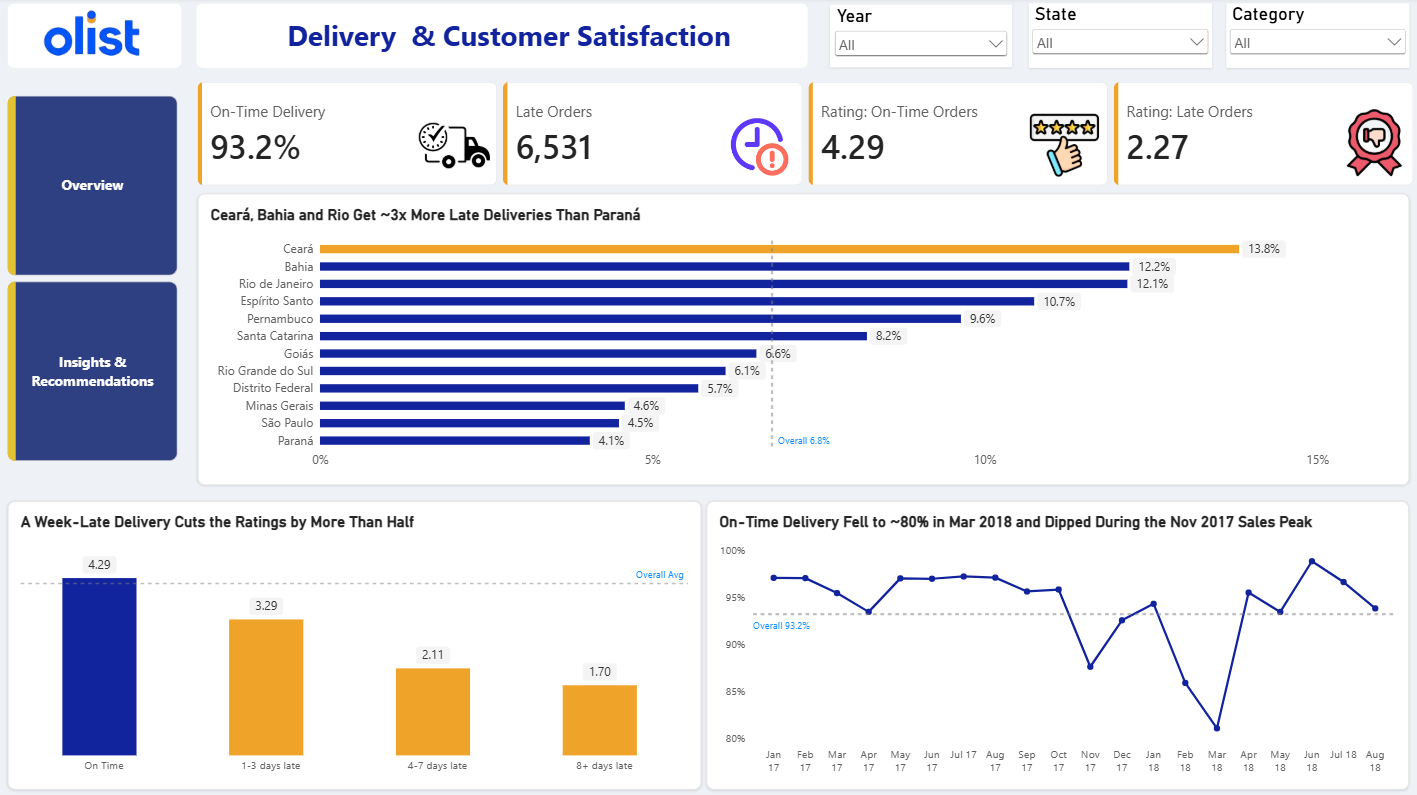

This screenshot's page, from the dashboard's own definition file:
{"tool":"powerbi","page":{"name":"Delivery & Satisfaction","canvas":[1920,1080],"ordinal":1},"visuals":[{"type":"shape","box":[269.6,8.2,817.2,86.4],"z":0},{"type":"textbox","box":[333.8,25.7,714.2,107],"z":1000},{"type":"shape","box":[16.5,8.2,232.6,86.4],"z":2000},{"type":"image","box":[16.5,0,226.4,94.7],"z":3000},{"type":"cardVisual","fields":{"Data":["Measure (2).On-Time %","Measure (2).Late Orders","Measure (2).Avg Rating On Time","Measure (2).Avg Rating Late"]},"box":[270.5,113.6,1625.1,138.4],"z":4000},{"type":"slicer","fields":{"Values":["Date.Year"]},"box":[1115.6,10.3,242.9,84.4],"z":5000},{"type":"slicer","fields":{"Values":["Customers.State Name"]},"box":[1381.1,8.2,244.9,86.4],"z":6000},{"type":"slicer","fields":{"Values":["Products.Category"]},"box":[1644.6,8.2,244.9,86.4],"z":7000},{"type":"clusteredColumnChart","title":"A Week-Late Delivery Cuts the Ratings by More Than Half","fields":{"Category":["Orders.Delay Bucket"],"Y":["Measure (2).Avg Rating"]},"box":[16.5,673.2,927.2,386.1],"z":8000},{"type":"lineChart","title":"On-Time Delivery Fell to ~80% in Mar 2018 and Dipped During the Nov 2017 Sales Peak","fields":{"Category":["Date.Month Year"],"Y":["Measure (2).On-Time %"]},"box":[949.9,673.2,939.6,386],"z":9000},{"type":"clusteredBarChart","title":"Ceará, Bahia and Rio Get ~3x More Late Deliveries Than Paraná","fields":{"Category":["Customers.State Name"],"Y":["Measure (2).Late Rate %"]},"box":[270.5,262.3,1618.9,390.3],"z":10000},{"type":"pageNavigator","box":[16.5,132.2,227.1,489.4],"z":11000},{"type":"image","box":[566.4,135.7,95,126],"z":12000},{"type":"image","box":[971.8,159.3,95.9,79.6],"z":13000},{"type":"image","box":[1380.8,135.7,95,126],"z":14000},{"type":"image","box":[1795.2,132.1,95,126],"z":15000}]}

Visuals, with their boxes in screenshot pixels (x1, y1, x2, y2), scaled from the page's 1920x1080 canvas onto the 1417x795 screenshot:
shape: 199, 6, 802, 70
textbox: 246, 19, 773, 98
shape: 12, 6, 184, 70
image: 12, 0, 179, 70
cardVisual - Measure (2).On-Time % x Measure (2).Late Orders: 200, 84, 1399, 186
slicer - Date.Year: 823, 8, 1003, 70
slicer - Customers.State Name: 1019, 6, 1200, 70
slicer - Products.Category: 1214, 6, 1394, 70
"A Week-Late Delivery Cuts the Ratings by More Than Half" clusteredColumnChart: 12, 496, 696, 780
"On-Time Delivery Fell to ~80% in Mar 2018 and Dipped During the Nov 2017 Sales Peak" lineChart: 701, 496, 1394, 780
"Ceará, Bahia and Rio Get ~3x More Late Deliveries Than Paraná" clusteredBarChart: 200, 193, 1394, 480
pageNavigator: 12, 97, 180, 458
image: 418, 100, 488, 193
image: 717, 117, 788, 176
image: 1019, 100, 1089, 193
image: 1325, 97, 1395, 190
